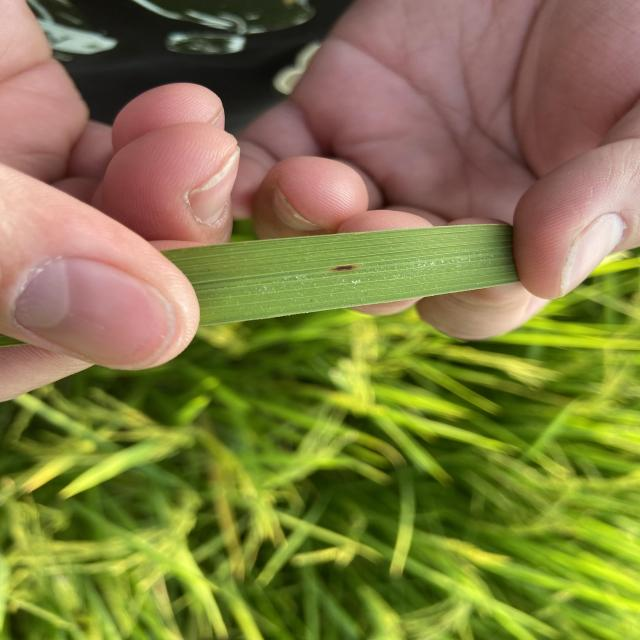Dom nau: (330, 265, 357, 271)
